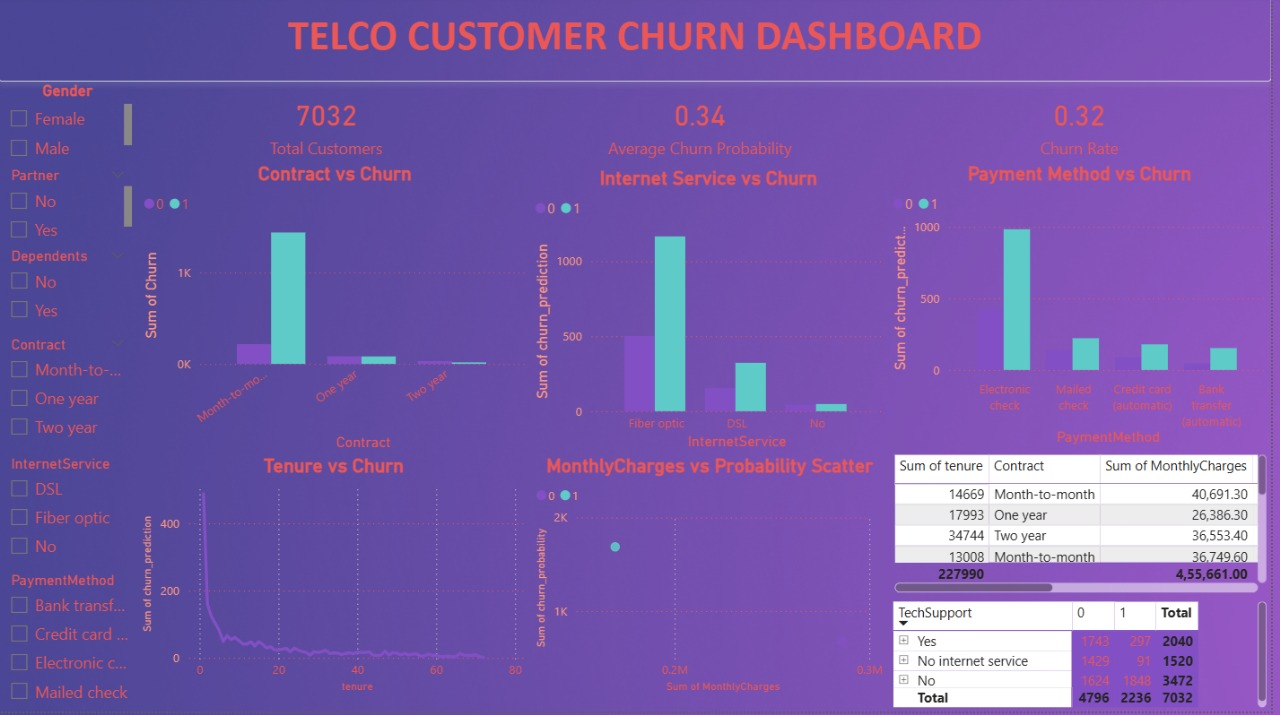

What the dashboard file says about the page in this screenshot:
{"tool":"powerbi","page":{"name":"Page 1","canvas":[1280,720],"ordinal":0},"visuals":[{"type":"card","fields":{"Values":["correct_churn_predictions.Total Customers"]},"box":[140.6,85.6,377.9,85.6],"z":0},{"type":"card","fields":{"Values":["correct_churn_predictions.Churn Rate"]},"box":[893.9,85.6,386.4,85.6],"z":1000},{"type":"card","fields":{"Values":["correct_churn_predictions.Average Churn Probability"]},"box":[517.3,85.6,376.6,85.6],"z":2000},{"type":"clusteredColumnChart","title":"Contract vs Churn","fields":{"Category":["correct_churn_predictions.Contract"],"Series":["correct_churn_predictions.churn_prediction"],"Y":["Sum(correct_churn_predictions.Churn)"]},"box":[140.6,166.3,395,294.7],"z":3000},{"type":"clusteredColumnChart","title":"Internet Service vs Churn","fields":{"Category":["correct_churn_predictions.InternetService"],"Y":["Sum(correct_churn_predictions.churn_prediction)"],"Series":["correct_churn_predictions.Churn"]},"box":[534.4,171.2,359.5,289.8],"z":4000},{"type":"clusteredColumnChart","title":"Payment Method vs Churn","fields":{"Category":["correct_churn_predictions.PaymentMethod"],"Y":["Sum(correct_churn_predictions.churn_prediction)"],"Series":["correct_churn_predictions.Churn"]},"box":[893.9,166.3,386.4,289.8],"z":5000},{"type":"lineChart","title":"Tenure vs Churn","fields":{"Category":["correct_churn_predictions.tenure"],"Y":["Sum(correct_churn_predictions.churn_prediction)"]},"box":[139.4,461,395,244.6],"z":6000},{"type":"scatterChart","title":"MonthlyCharges vs Probability Scatter","fields":{"X":["Sum(correct_churn_predictions.MonthlyCharges)"],"Y":["Sum(correct_churn_predictions.churn_probability)"],"Series":["correct_churn_predictions.churn_prediction"]},"box":[535.6,461,359.5,244.6],"z":7000},{"type":"pivotTable","fields":{"Rows":["correct_churn_predictions.TechSupport","correct_churn_predictions.OnlineSecurity"],"Columns":["correct_churn_predictions.churn_prediction"],"Values":["CountNonNull(correct_churn_predictions.churn_prediction)"]},"box":[895.1,604.1,385.2,116.2],"z":8000},{"type":"slicer","title":"Gender","fields":{"Values":["correct_churn_predictions.gender"]},"box":[0,85.6,139.4,80.7],"z":9000},{"type":"slicer","fields":{"Values":["correct_churn_predictions.Partner"]},"box":[0,166.3,139.4,81.9],"z":10000},{"type":"slicer","fields":{"Values":["correct_churn_predictions.Dependents"]},"box":[0,248.2,139.4,89.3],"z":11000},{"type":"slicer","fields":{"Values":["correct_churn_predictions.Contract"]},"box":[0,337.5,139.4,118.6],"z":12000},{"type":"slicer","fields":{"Values":["correct_churn_predictions.InternetService"]},"box":[0,456.1,139.4,117.4],"z":13000},{"type":"slicer","fields":{"Values":["correct_churn_predictions.PaymentMethod"]},"box":[0,573.5,139.4,146.7],"z":14000},{"type":"tableEx","fields":{"Values":["Sum(correct_churn_predictions.tenure)","correct_churn_predictions.Contract","Sum(correct_churn_predictions.MonthlyCharges)","correct_churn_predictions.PaymentMethod","Sum(correct_churn_predictions.churn_prediction)","Sum(correct_churn_predictions.churn_probability)"]},"box":[895.1,456.1,385.2,148],"z":15000},{"type":"textbox","box":[0,0,1280.3,85.6],"z":16000}]}

Visuals, with their boxes in screenshot pixels (x1, y1, x2, y2), scaled from the page's 1280x720 canvas onto the 1280x715 screenshot:
card - correct_churn_predictions.Total Customers: bbox=[141, 85, 518, 170]
card - correct_churn_predictions.Churn Rate: bbox=[894, 85, 1279, 170]
card - correct_churn_predictions.Average Churn Probability: bbox=[517, 85, 894, 170]
"Contract vs Churn" clusteredColumnChart: bbox=[141, 165, 536, 458]
"Internet Service vs Churn" clusteredColumnChart: bbox=[534, 170, 894, 458]
"Payment Method vs Churn" clusteredColumnChart: bbox=[894, 165, 1279, 453]
"Tenure vs Churn" lineChart: bbox=[139, 458, 534, 701]
"MonthlyCharges vs Probability Scatter" scatterChart: bbox=[536, 458, 895, 701]
pivotTable - correct_churn_predictions.TechSupport x correct_churn_predictions.OnlineSecurity: bbox=[895, 600, 1279, 714]
"Gender" slicer: bbox=[0, 85, 139, 165]
slicer - correct_churn_predictions.Partner: bbox=[0, 165, 139, 246]
slicer - correct_churn_predictions.Dependents: bbox=[0, 246, 139, 335]
slicer - correct_churn_predictions.Contract: bbox=[0, 335, 139, 453]
slicer - correct_churn_predictions.InternetService: bbox=[0, 453, 139, 570]
slicer - correct_churn_predictions.PaymentMethod: bbox=[0, 570, 139, 714]
tableEx - Sum(correct_churn_predictions.tenure) x correct_churn_predictions.Contract: bbox=[895, 453, 1279, 600]
textbox: bbox=[0, 0, 1279, 85]
